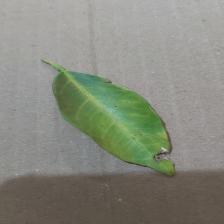greening: (57, 70, 164, 136)
